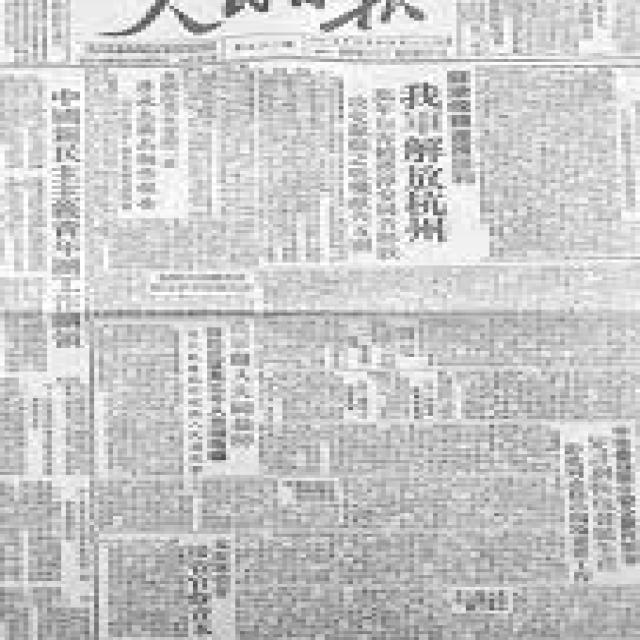organic: (14, 12, 612, 630)
